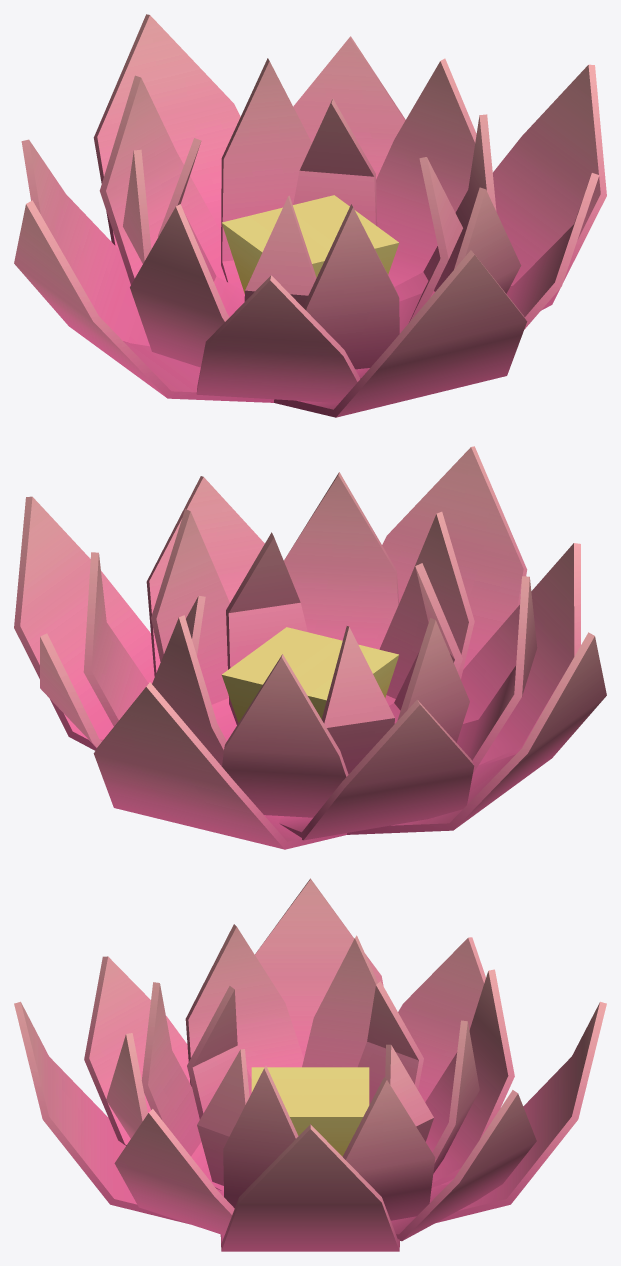
Rendered from Lily.fbx.
3 renders of one model, top to bottom at view 1: azimuth 30°, elevation 25°; view 2: azimuth 150°, elevation 25°; view 3: azimuth 270°, elevation 25°, orthographic. The views are drawn at different scales.
Visible parts, largest first — view 1: Würfel_1; view 2: Würfel_1; view 3: Würfel_1.
Part boxes in pixels (left/top/right/bottom): Würfel_1: left=14, top=14, right=606, bottom=417; Würfel_1: left=14, top=446, right=606, bottom=849; Würfel_1: left=14, top=878, right=606, bottom=1251.
Size of the model in its own units: 0.1662 by 0.0595 by 0.1662.
1 material, 1 textured.
